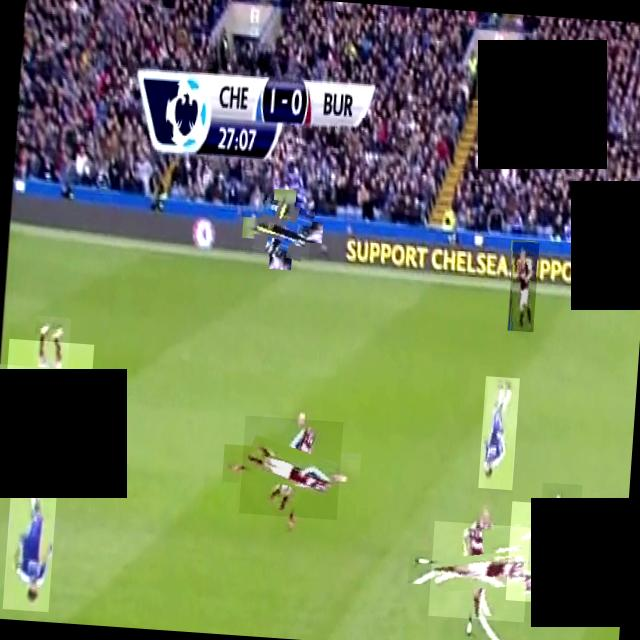referee: (252, 198, 312, 258)
soccer-player: (504, 500, 609, 606), (237, 414, 342, 518), (427, 520, 529, 620), (2, 459, 58, 611), (2, 337, 93, 428), (476, 374, 518, 488), (506, 239, 538, 331)
